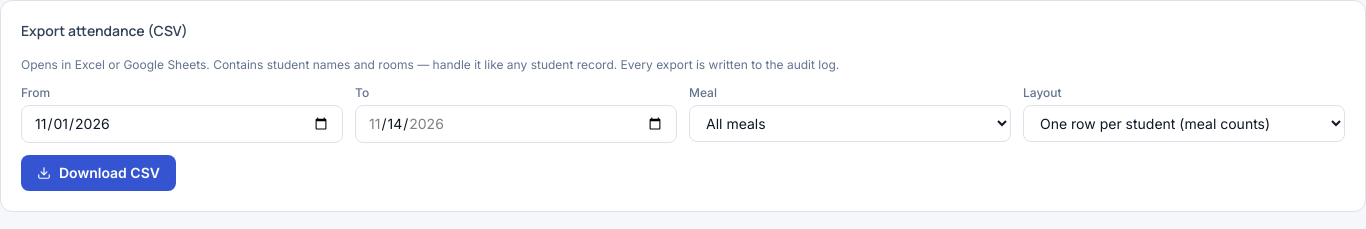
Test: AttendanceExportCard › warns that it contains student data and is audited; blocks an inverted range
Clear the date field named "Export from date" at x=182, y=124, box [21,105,343,143]
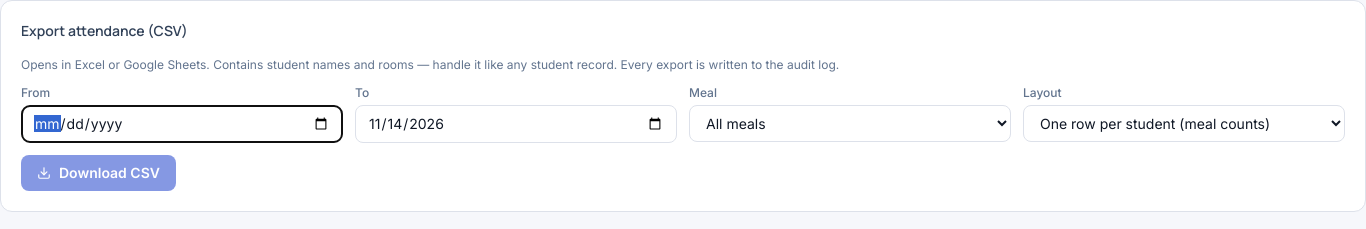
Result: the button "Download CSV" is disabled at [21,155,176,191]
